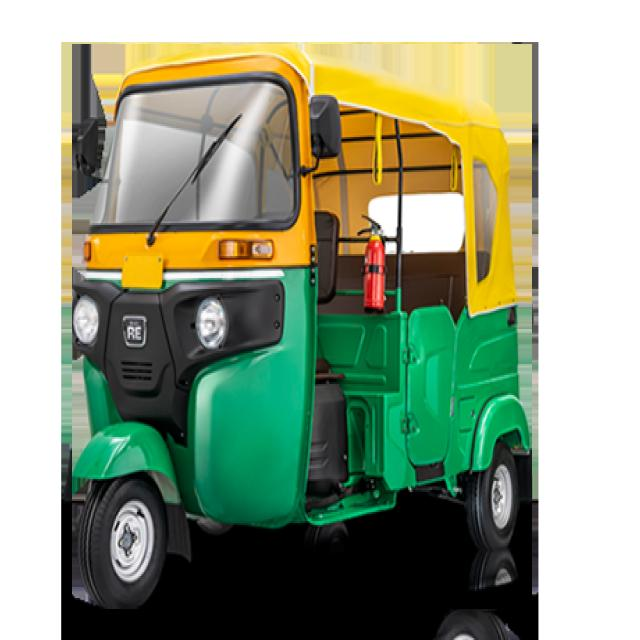autorickshaw: (72, 44, 531, 609)
